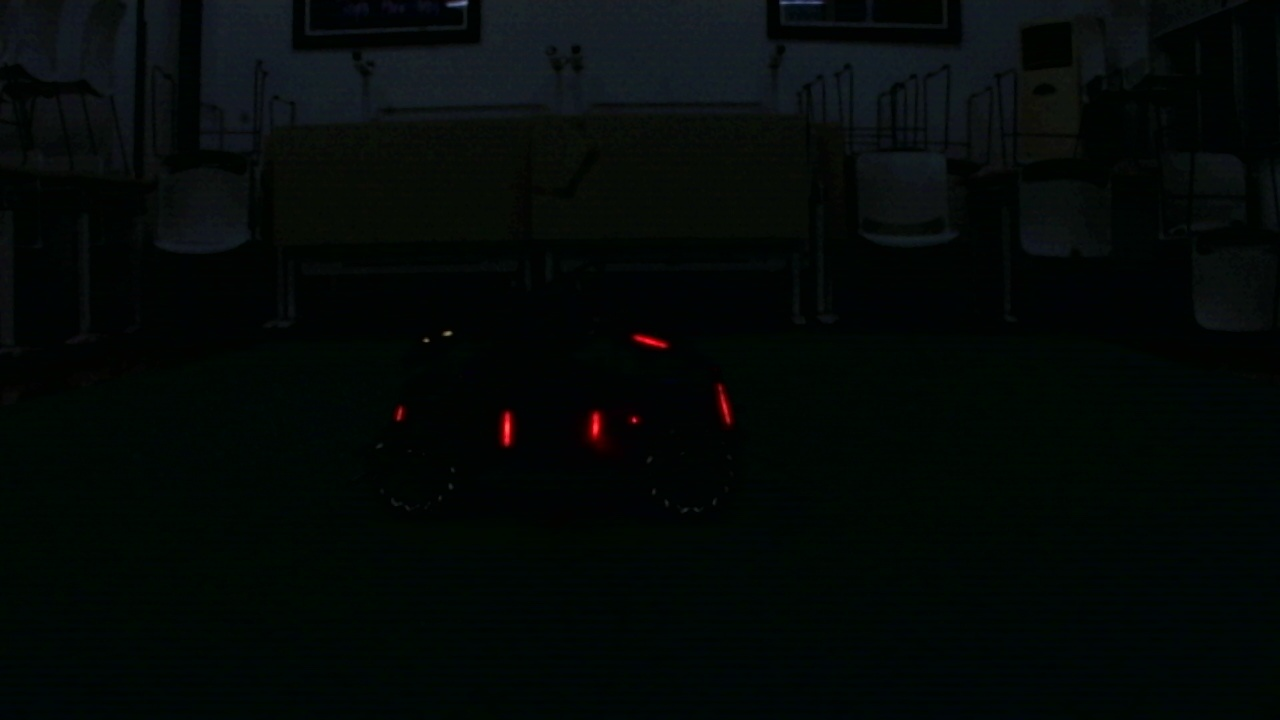lamp: (711, 385, 737, 433), (501, 407, 514, 454), (589, 408, 605, 441)
pair1: (502, 408, 601, 445)
